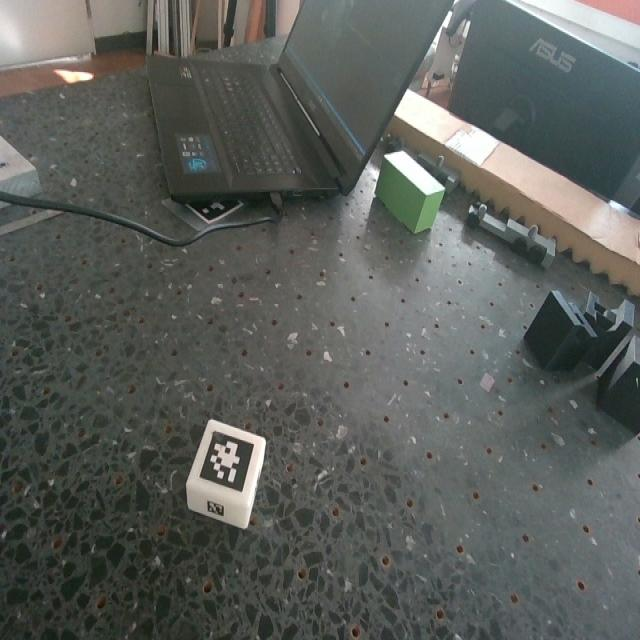Cube: (185, 420, 268, 532)
